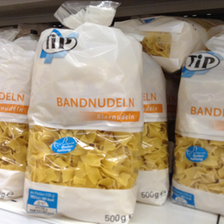pasta: (19, 2, 144, 224), (173, 50, 224, 217)
